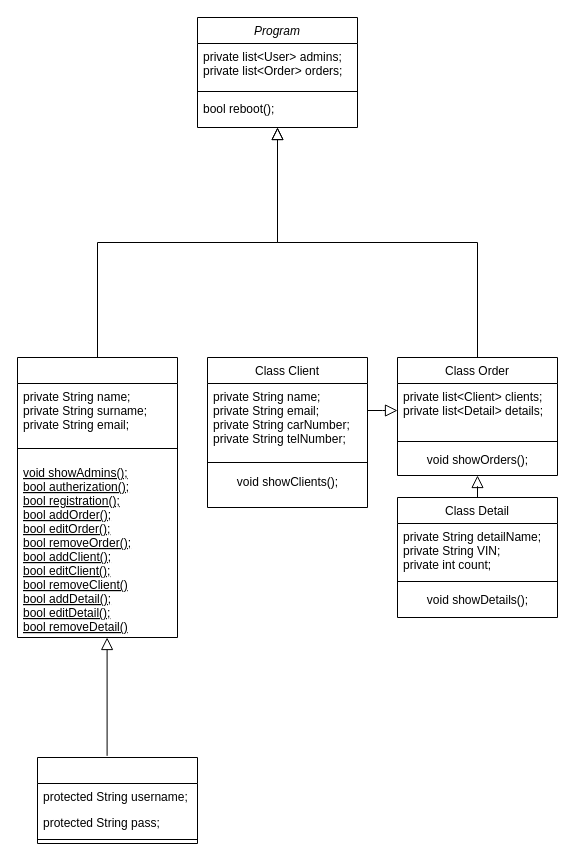
Image size: 575x861. Some labels were removed from this diagram. Here are the shapes that lost their labels. From the top down, the box of each, then its label:
(16, 356, 178, 638): Class User
(36, 756, 198, 844): struct Admin
